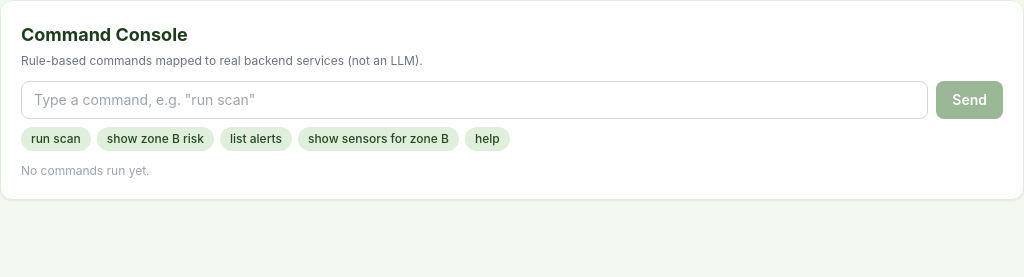
Scenario: CommandConsole › sends a command and shows the real backend response
The image size is (1024, 277).
Type "show zone B risk" into the field with placeholder "Type a command, e.g. \"run scan\"" at (475, 100), box [21, 81, 928, 119]
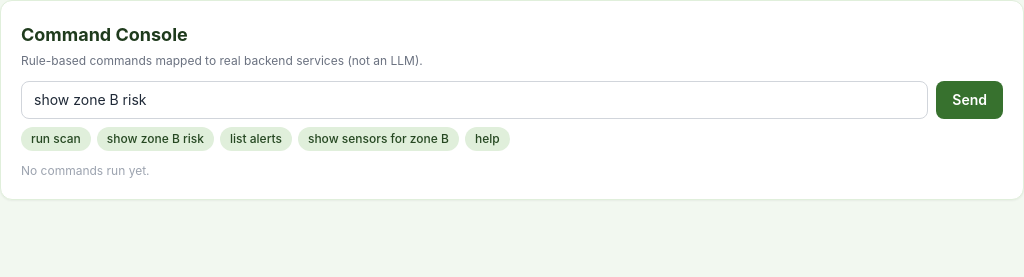
Click the button "Send" at (970, 100), box [936, 81, 1003, 119]
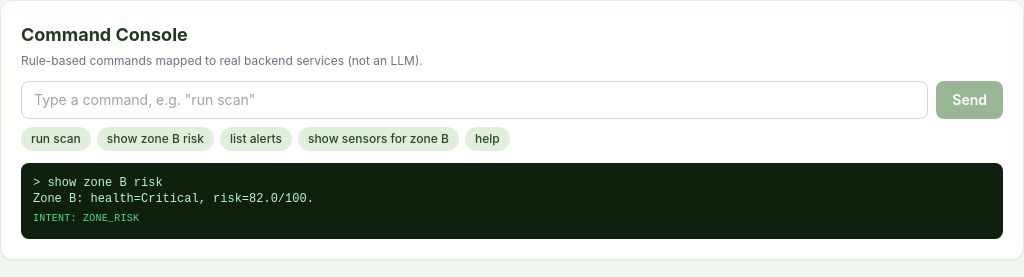
Check: the text "> show zone B risk Zone B: health=Critical, risk=82.0/100." is shown, box [33, 176, 314, 206]
